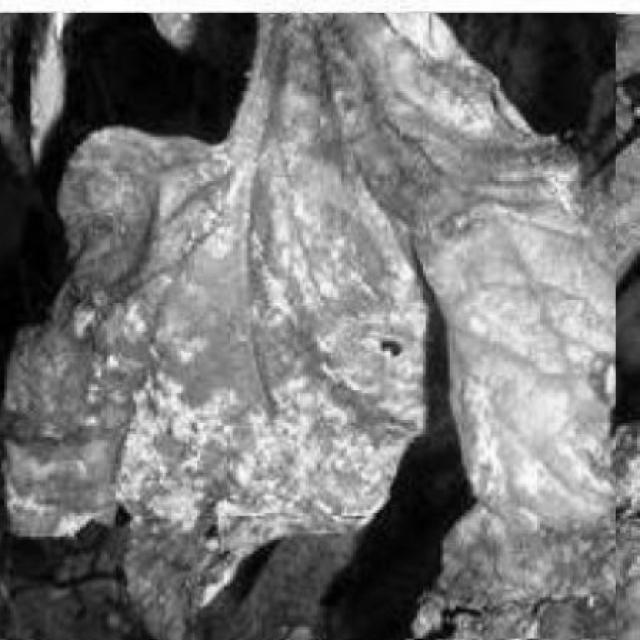Late Blight: (0, 14, 616, 639)
